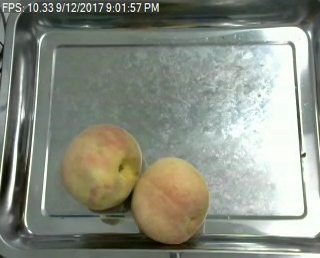Peach: (130, 155, 211, 244), (62, 125, 143, 209)
